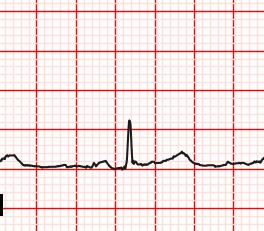LVH: (156, 145, 217, 178)
